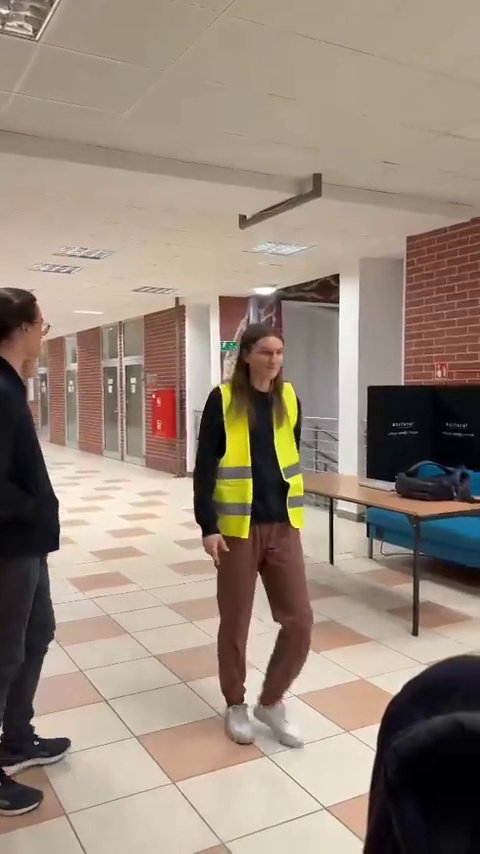no vest: (0, 285, 74, 812)
vest: (193, 316, 320, 758)
